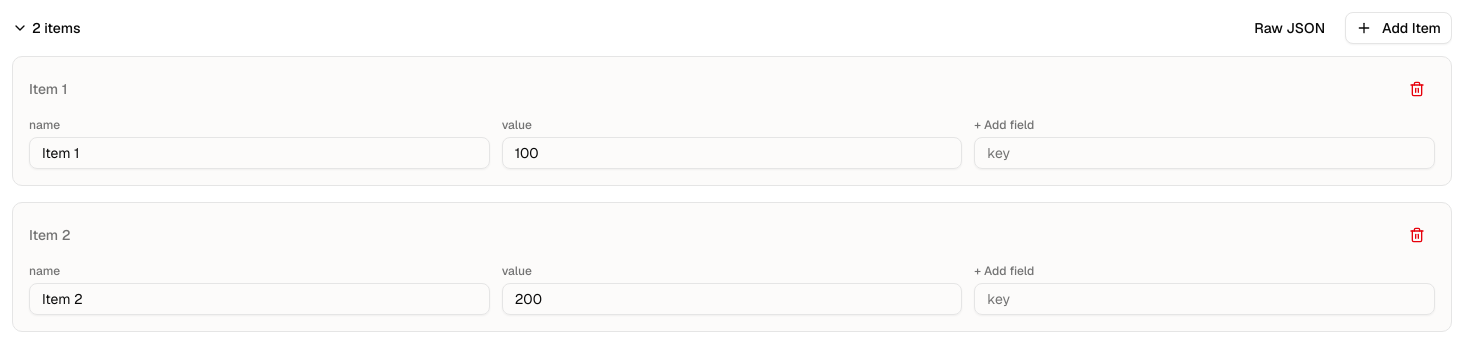
Test case: JsonFieldEditor › Array of Objects Handling › should expand/collapse array of objects
Expected: the text "Item 1" is shown, [29,79,67,99]
# Click to collapse
Click the button "2 items": (46, 28) [12,18,80,38]
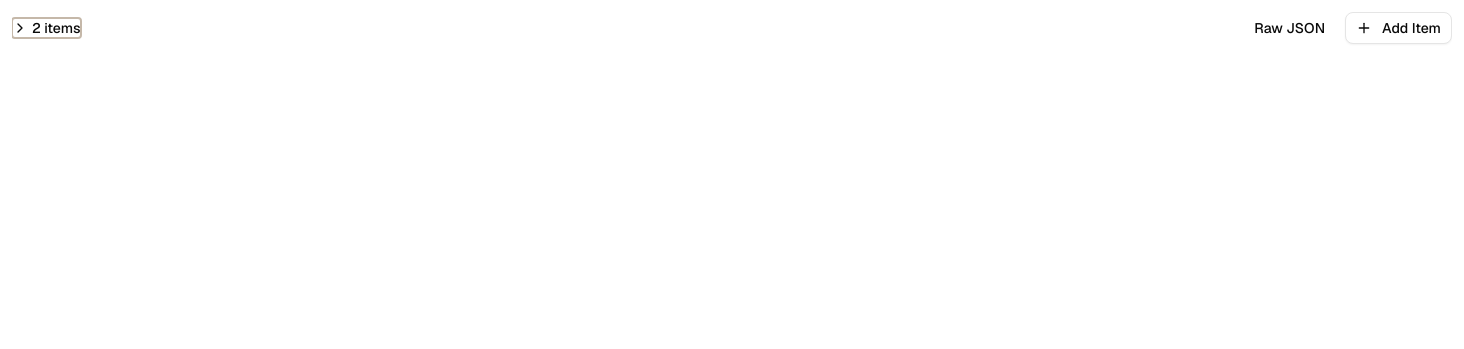
Now the text "Item 1" is gone
